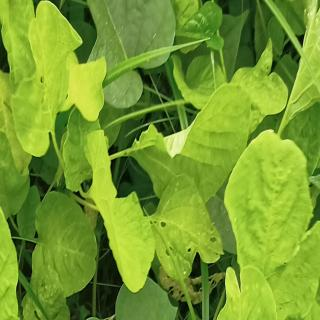karat_putih: (295, 0, 320, 130), (132, 0, 201, 23)
